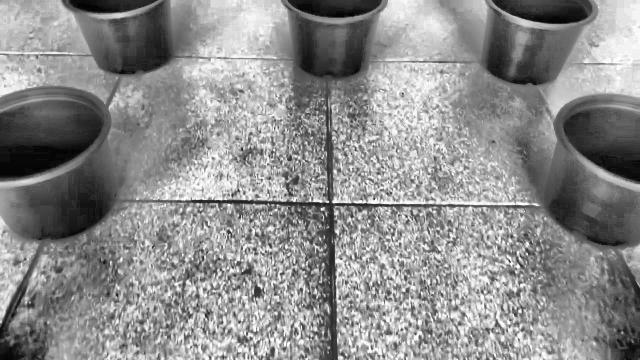pot: (0, 86, 118, 242), (542, 94, 640, 248), (480, 0, 598, 86), (58, 0, 176, 77), (280, 0, 389, 80)
